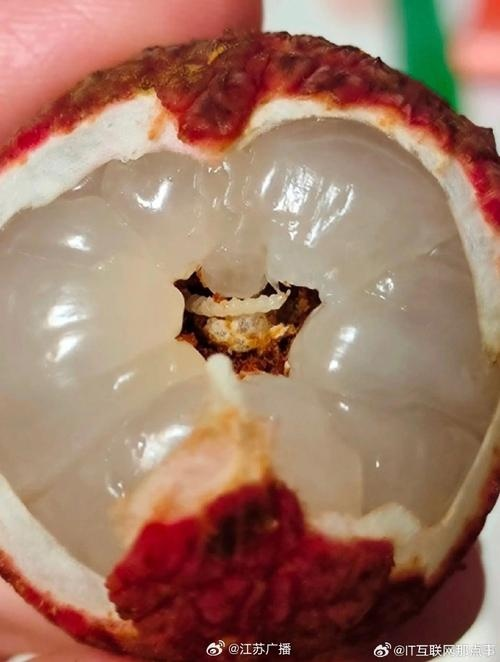Borer: (156, 269, 293, 322)
